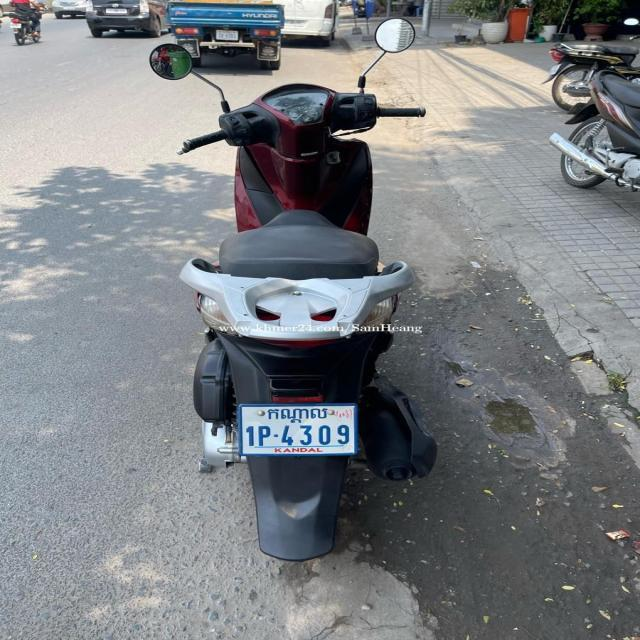Kandal: (266, 407, 332, 424)
